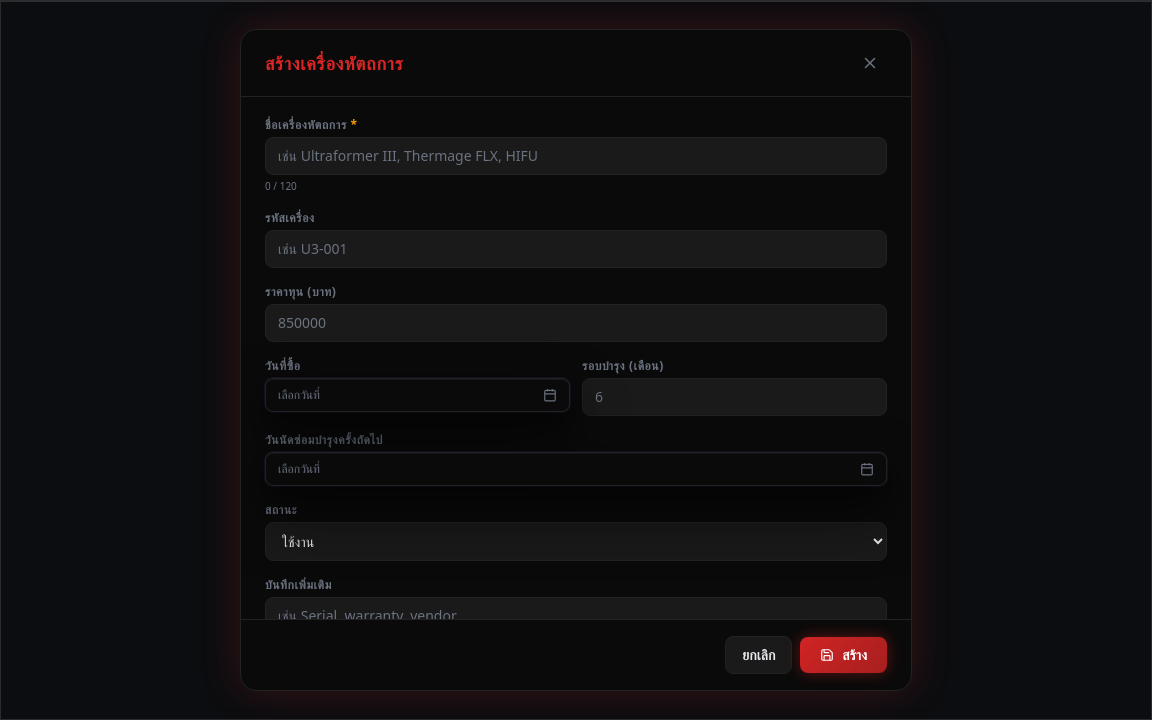
Test case: MedicalInstrumentFormModal — MIM1..MIM8 › MIM3: save with empty name → error
The image size is (1152, 720).
Click the button "สร้าง". click: (844, 655)
box: left=800, top=637, right=887, bottom=673
(page scrolled)
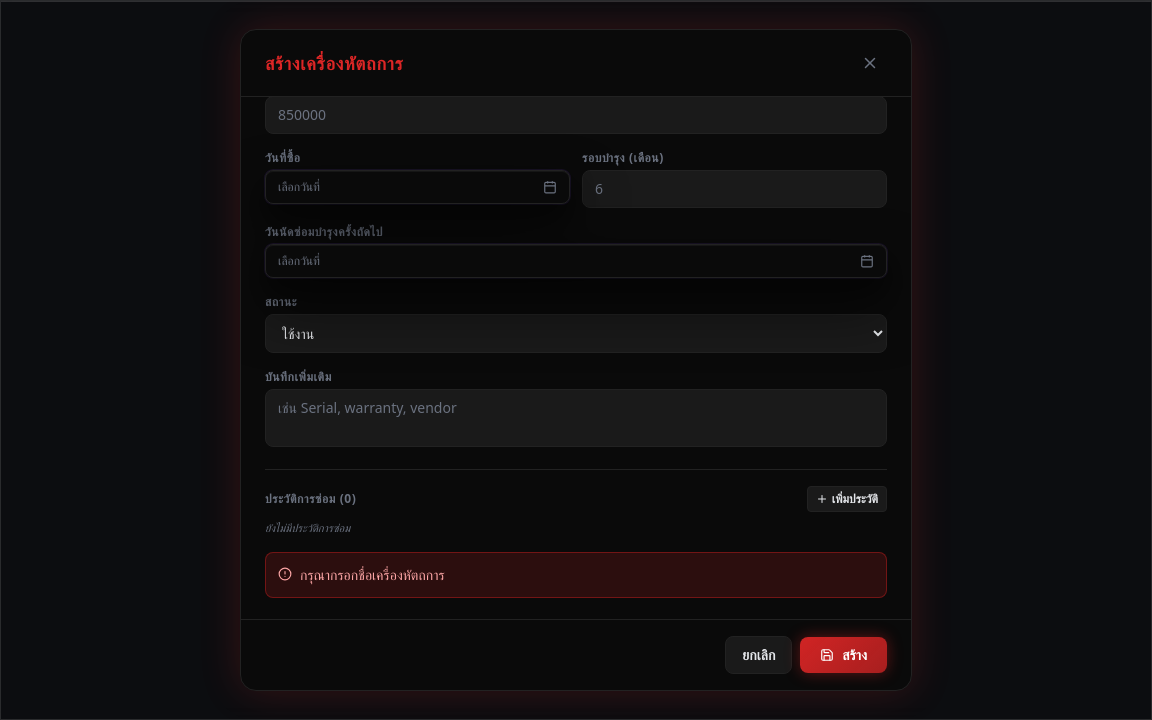
Now the text "กรุณากรอกชื่อเครื่องหัตถการ" is shown, box left=300, top=565, right=445, bottom=585
